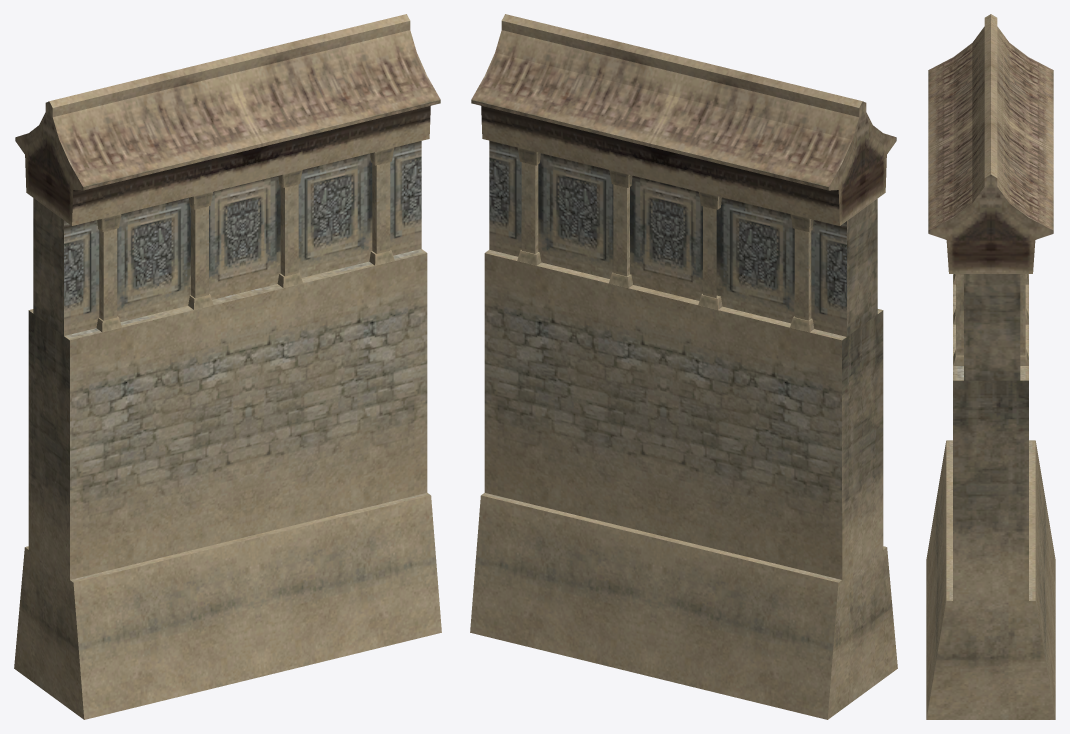
File: desert-middledam-03.fbx
3 renders of one model, left to right at view 1: azimuth 30°, elevation 25°; view 2: azimuth 150°, elevation 25°; view 3: azimuth 270°, elevation 25°, orthographic. The views are drawn at different scales.
Parts seen in each view (by area): view 1: desert-middledam-02; view 2: desert-middledam-02; view 3: desert-middledam-02.
Part boxes in pixels (box(x1,y1,x2,y2)): desert-middledam-02: box(14, 14, 441, 719); desert-middledam-02: box(470, 14, 897, 719); desert-middledam-02: box(926, 14, 1055, 719).
Size of the model in its own units: 5 by 7.92 by 1.7.
